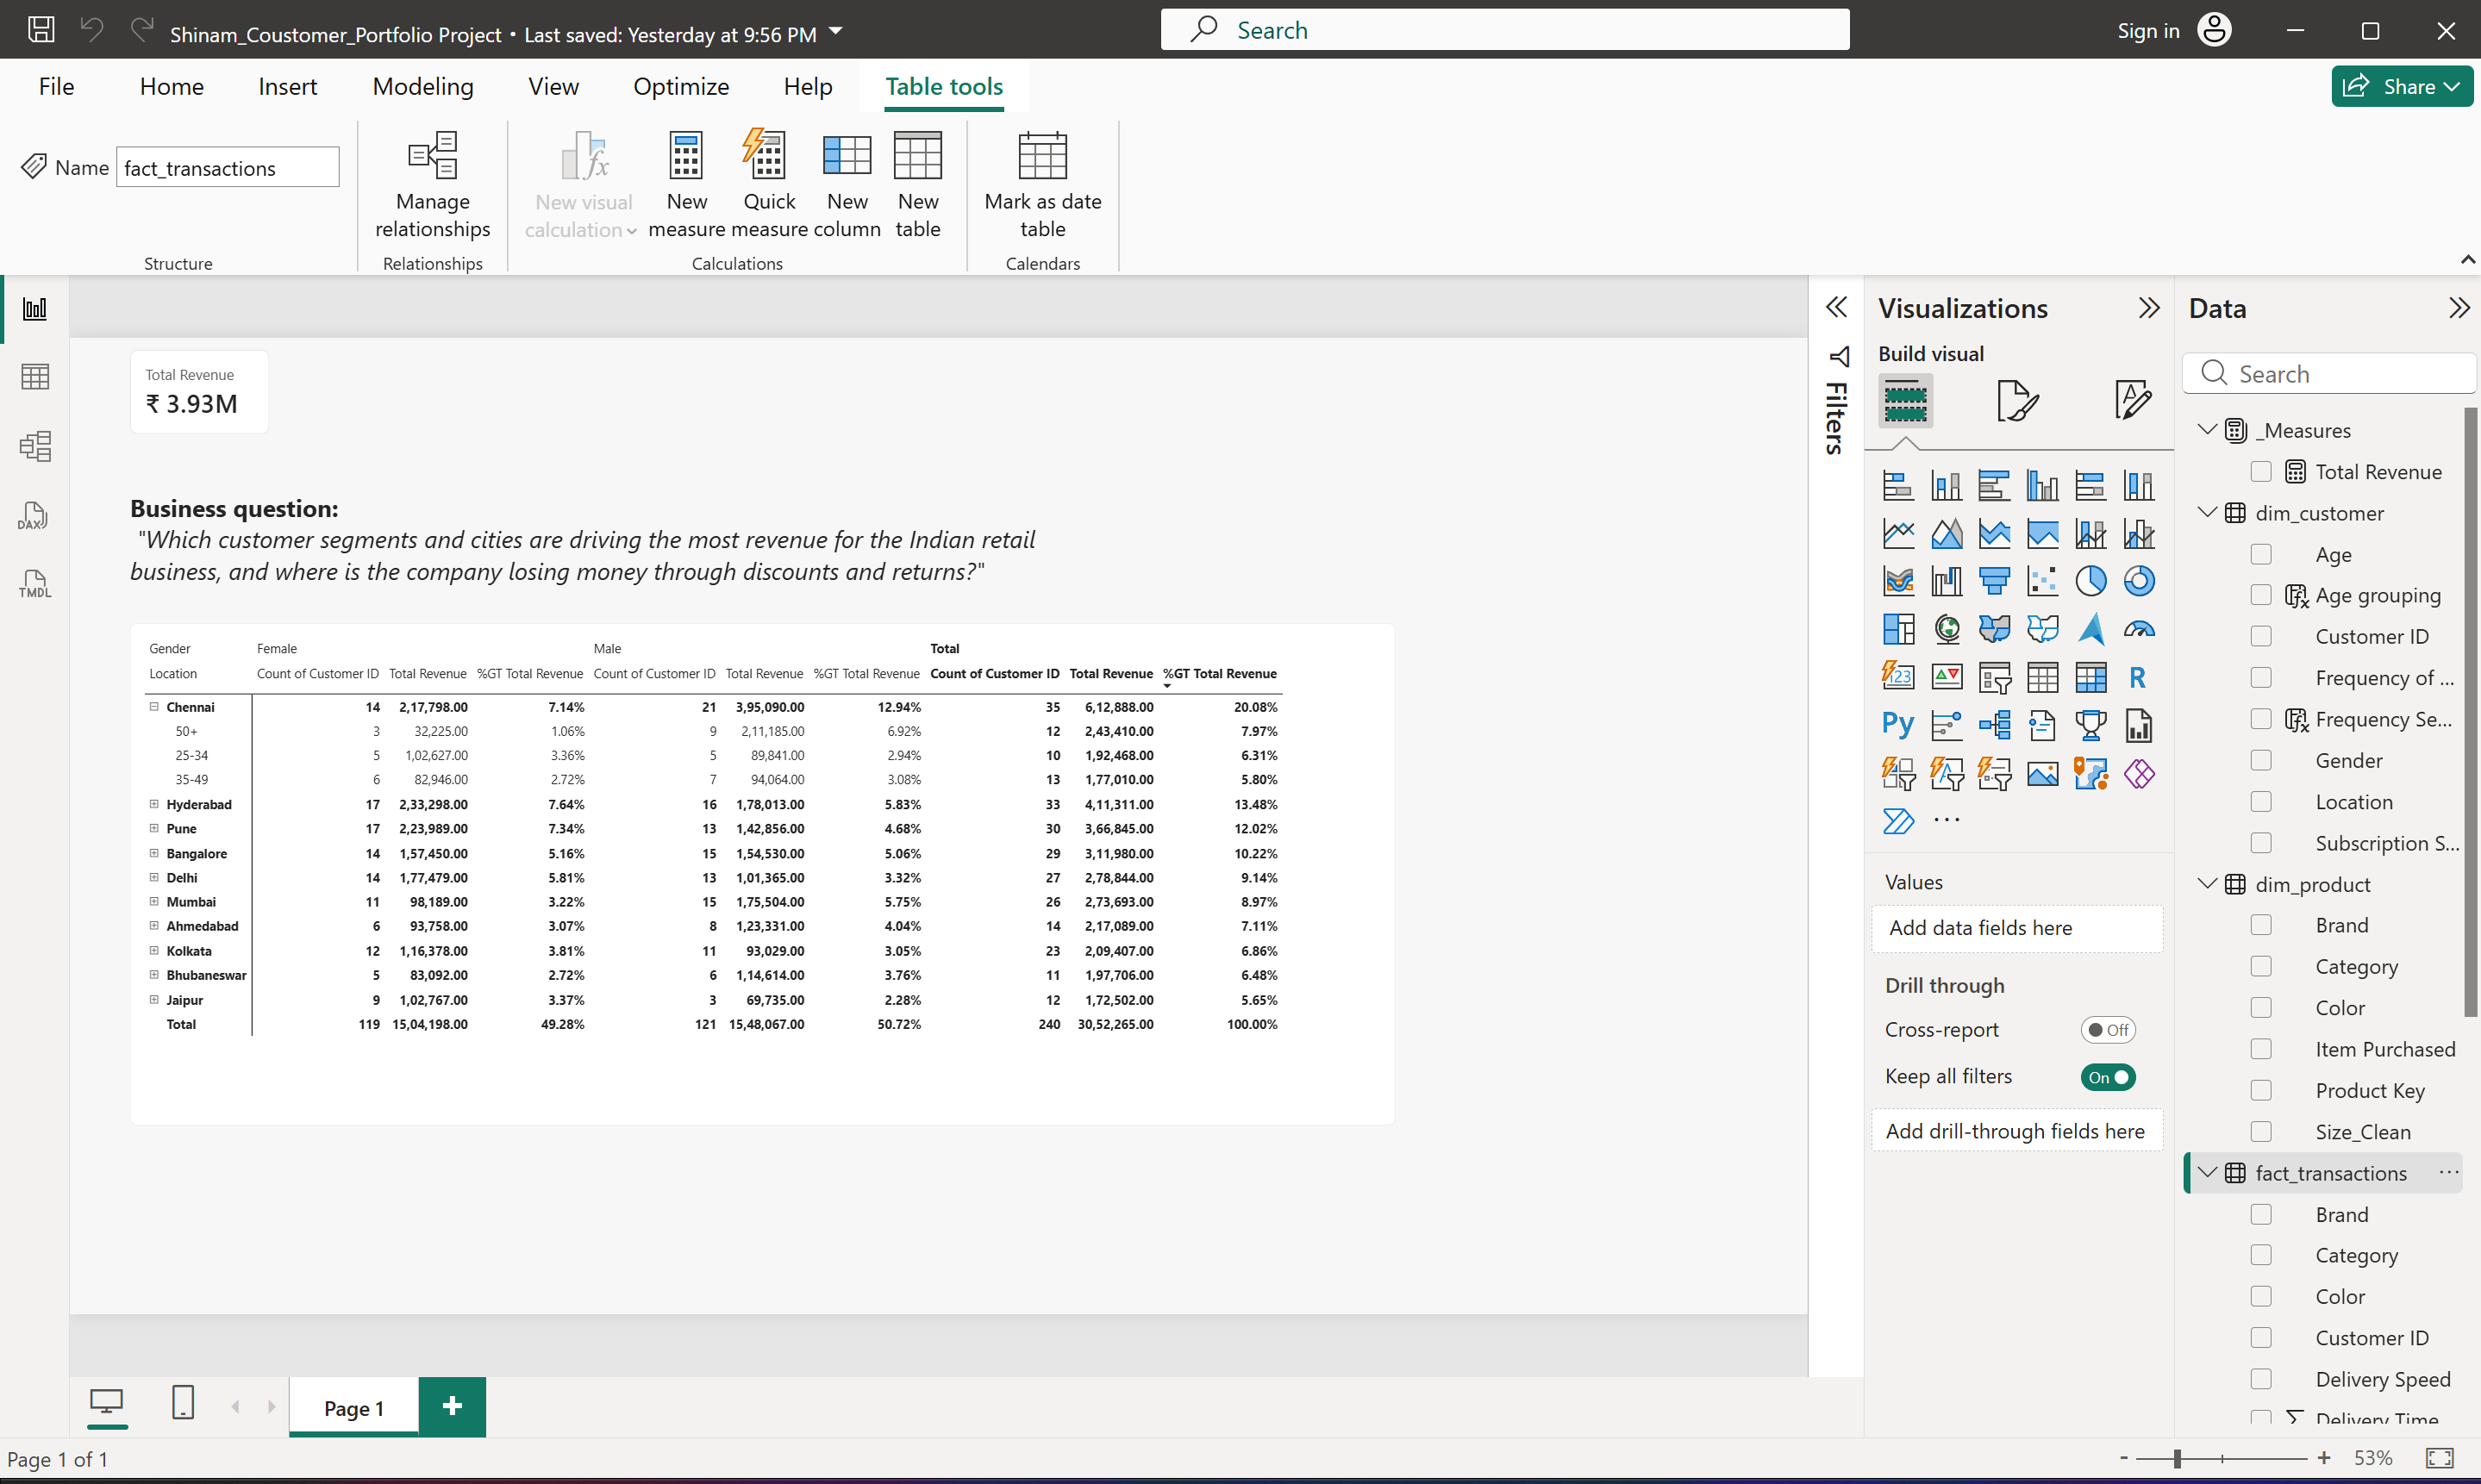

The dashboard page shown, as its layout file describes it:
{"tool":"powerbi","page":{"name":"Page 1","canvas":[1920,1080],"ordinal":0},"visuals":[{"type":"cardVisual","fields":{"Data":["_Measures.Total Revenue"]},"box":[67.2,12.5,154.7,93.8],"z":1},{"type":"textbox","box":[67.2,168.8,1059.4,207.8],"z":2},{"type":"pivotTable","fields":{"Columns":["dim_customer.Gender"],"Rows":["dim_customer.Location","dim_customer.Age grouping"],"Values":["Count(dim_customer.Customer ID)","_Measures.Total Revenue1","_Measures.Total Revenue"]},"box":[67.2,315.6,1398.4,554.7],"z":3}]}

Visuals, with their boxes on the page's 1920x1080 design canvas (x1, y1, x2, y2). These are canvas units, not pixel positions in the 2481x1484 screenshot, which may show the page scaled, cropped or inside an application window:
cardVisual - _Measures.Total Revenue: 67:12:222:106
textbox: 67:169:1127:377
pivotTable - dim_customer.Gender x dim_customer.Location: 67:316:1466:870
